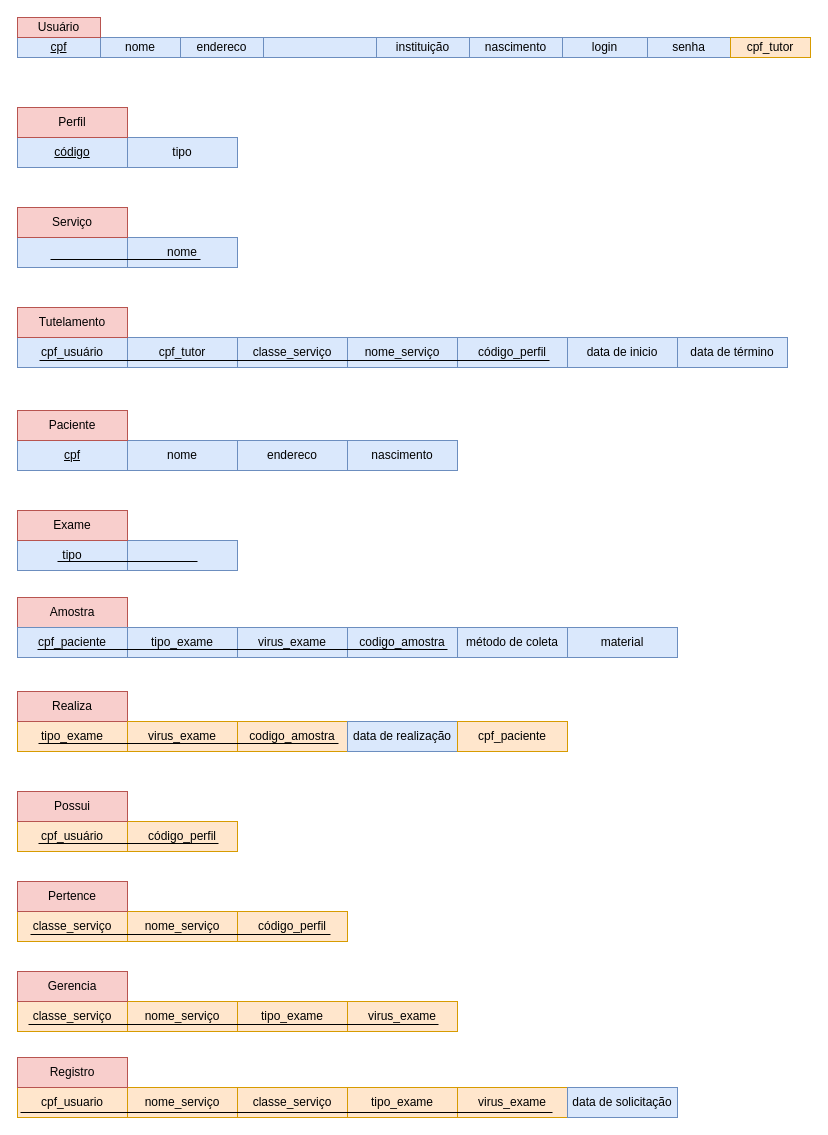
The diagram is 828 pixels wide and 1135 high, and some of its shapes have lost their labels. Each missing label, with the centre of its shape:
area de pesquisa: [319,47]
classe: [72,252]
virus: [182,555]
